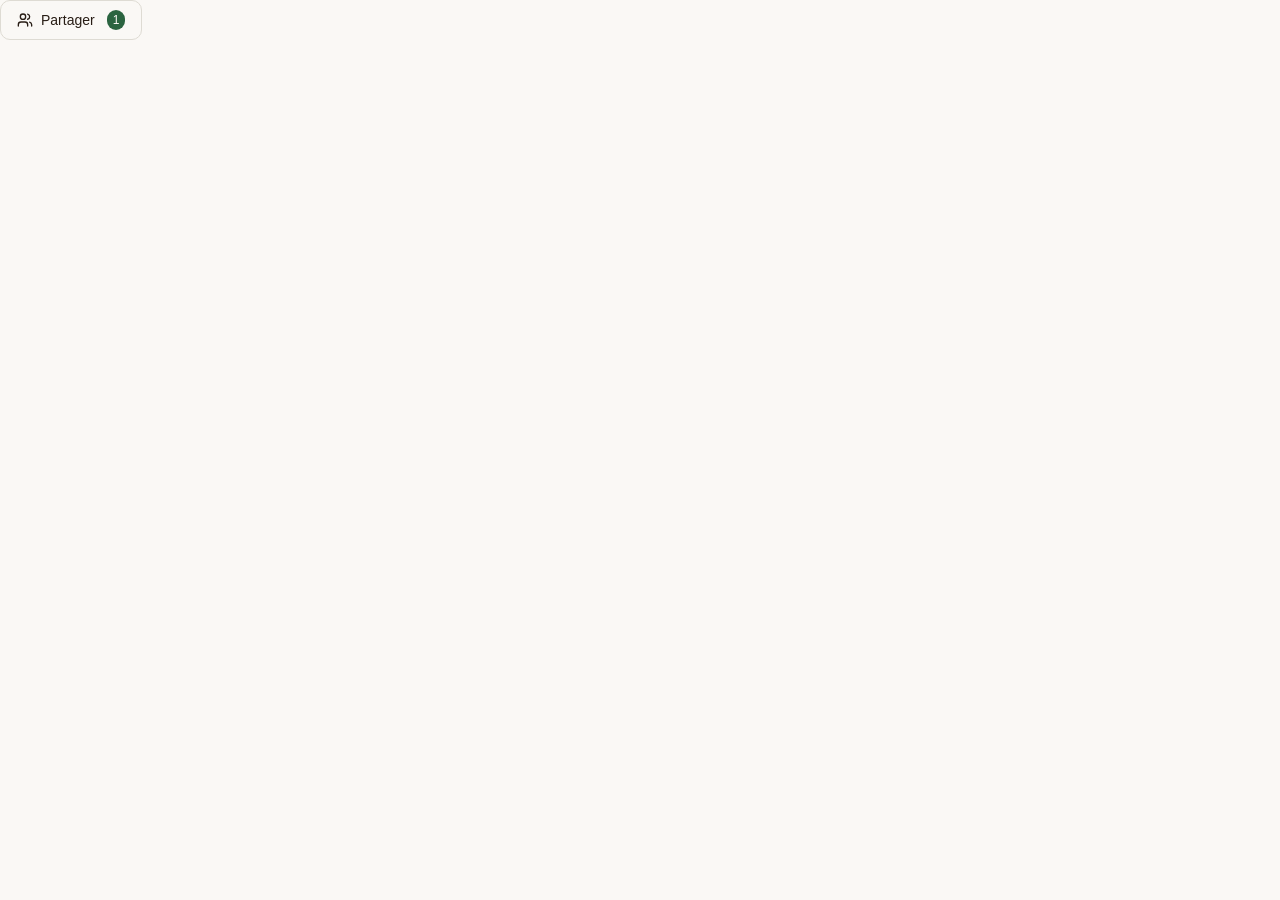
Scenario: CampShareDialog › shows shared emails when dialog is opened
Click the button "Partager 1" at (71, 20), box left=0, top=0, right=142, bottom=40
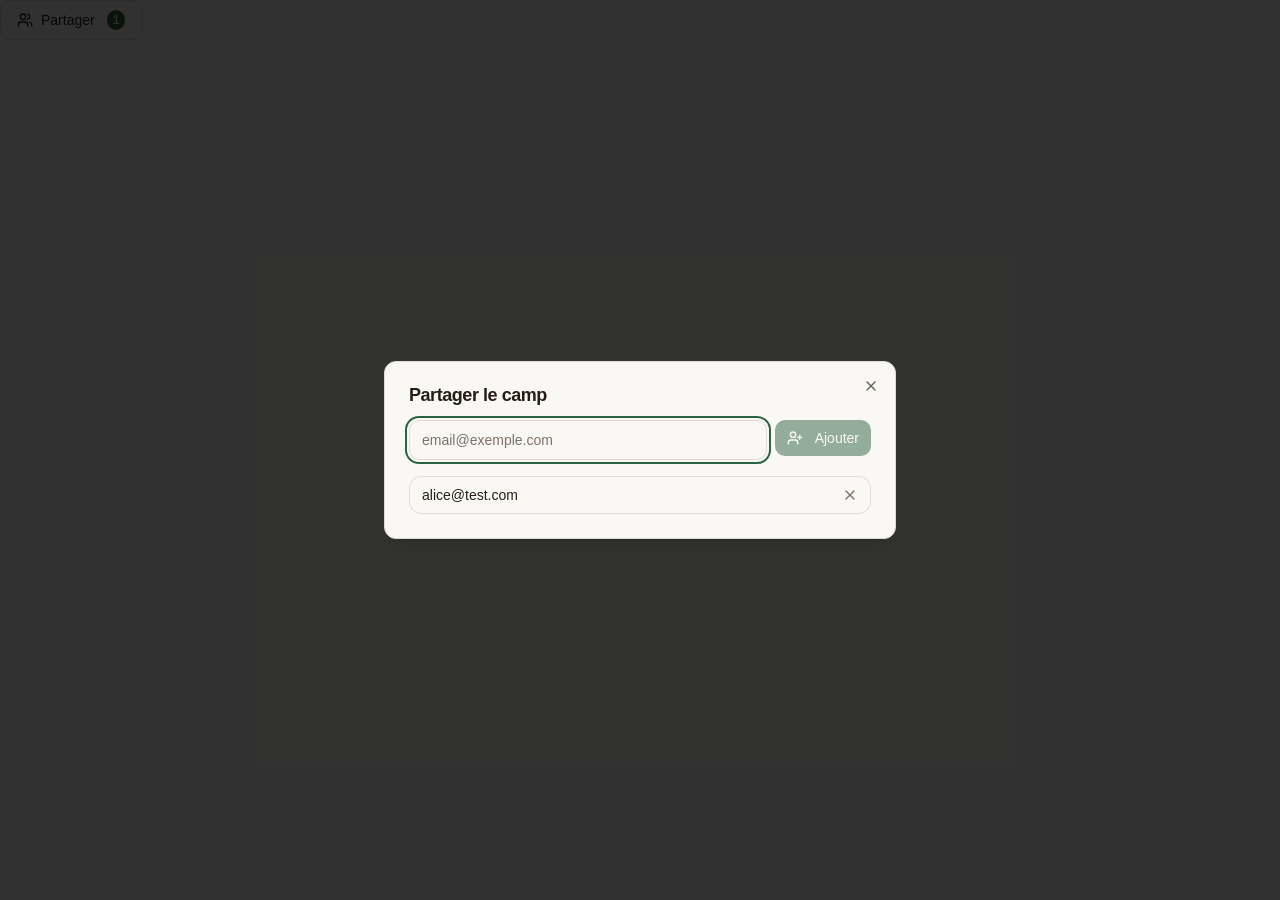
Expected: the text "alice@test.com" is shown, left=422, top=485, right=518, bottom=505
